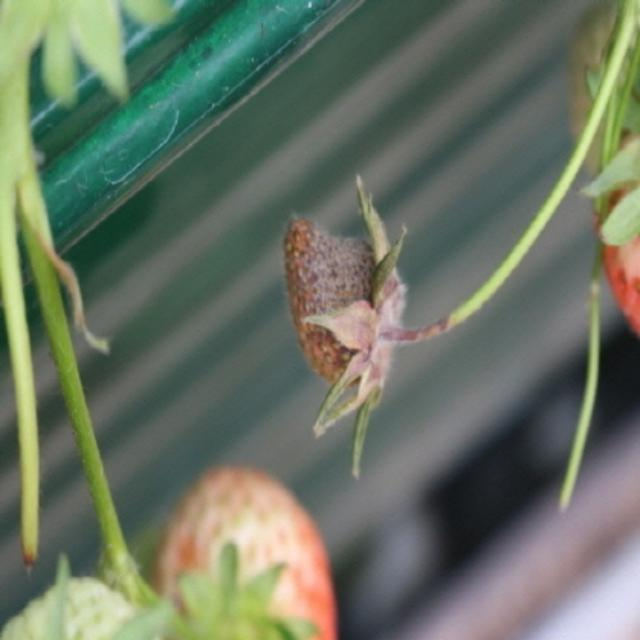Gray Mold: (282, 174, 415, 479)
